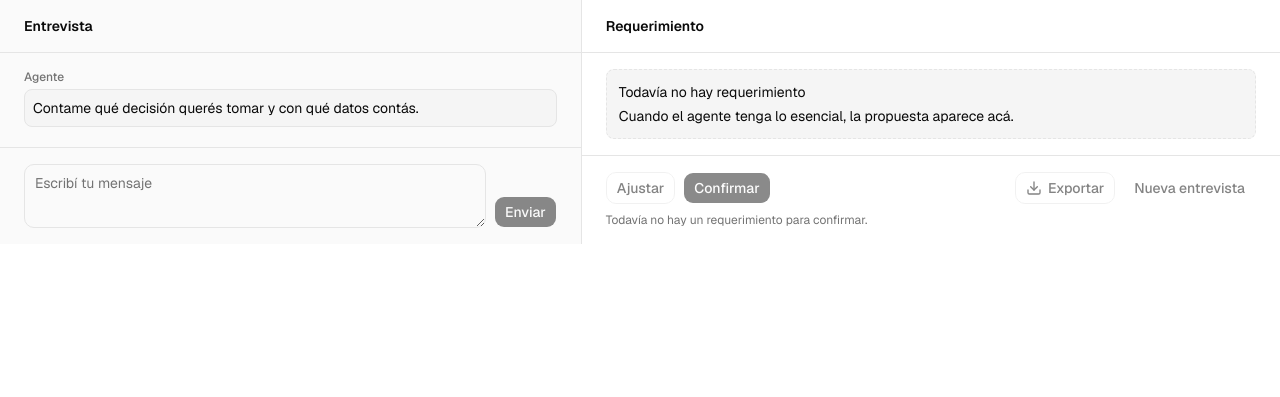
Scenario: mensajes › usan los estilos del enunciado para el agente y para el usuario
Expected: the element named "Conversación" is shown, [0, 53, 581, 147]
Type "Hola" into the text box at (255, 196), box [24, 164, 486, 228]
Then press Enter
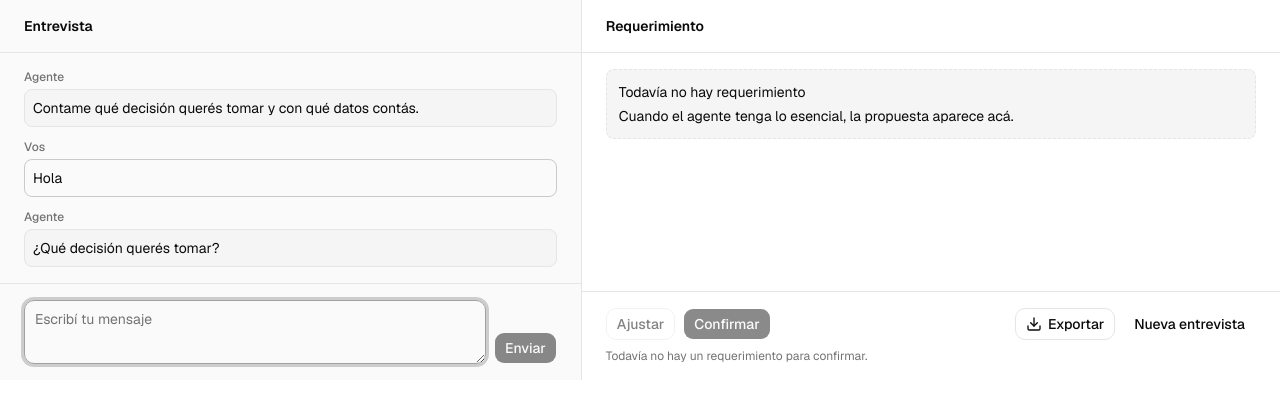
Expected: the text "¿Qué decisión querés tomar?" is shown, [33, 239, 220, 257]
Expected: the 2nd text "Agente" is shown, [24, 209, 64, 225]
